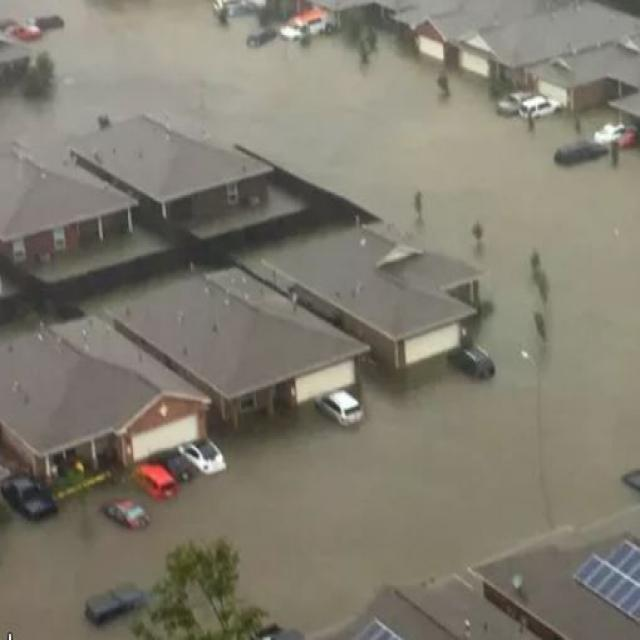flood: (0, 0, 640, 640), (581, 108, 618, 136)
house: (0, 312, 218, 504), (131, 270, 370, 404), (105, 110, 350, 236), (280, 234, 485, 358), (0, 138, 148, 292), (370, 580, 511, 640), (566, 530, 640, 640), (527, 57, 590, 122), (462, 29, 506, 86), (414, 16, 448, 61)
